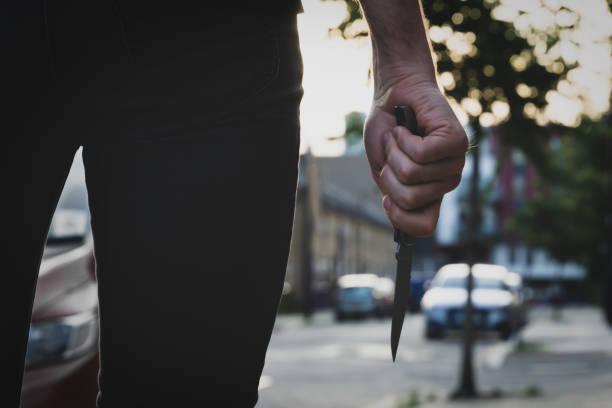knife: (390, 103, 419, 363)
